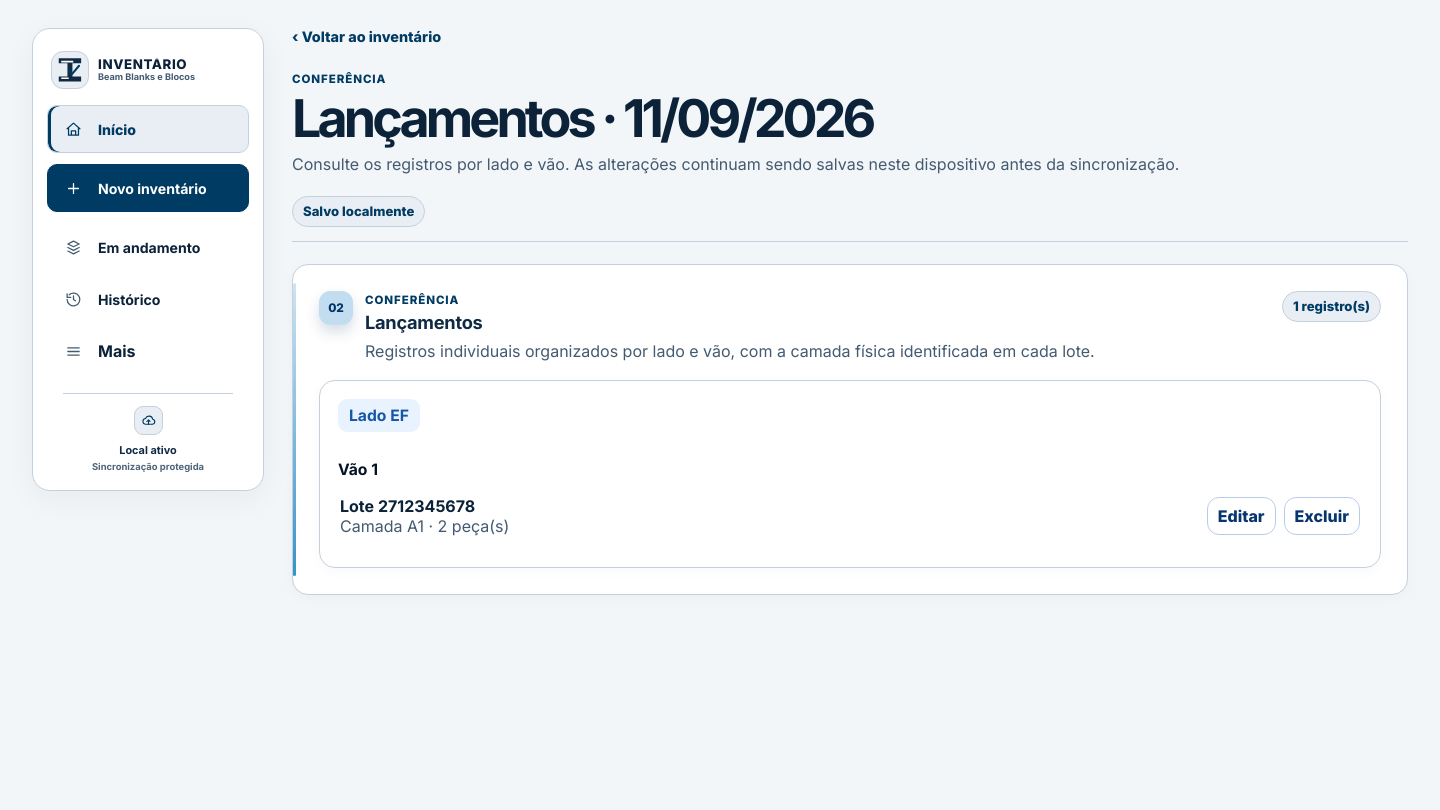
Test: edita e exige confirmação antes de tombstonar um registro
Expected: the text "Lote 2712345678" is shown, [340,496,475,516]
Click the button "Editar": [1241, 516] box [1207,497,1276,535]
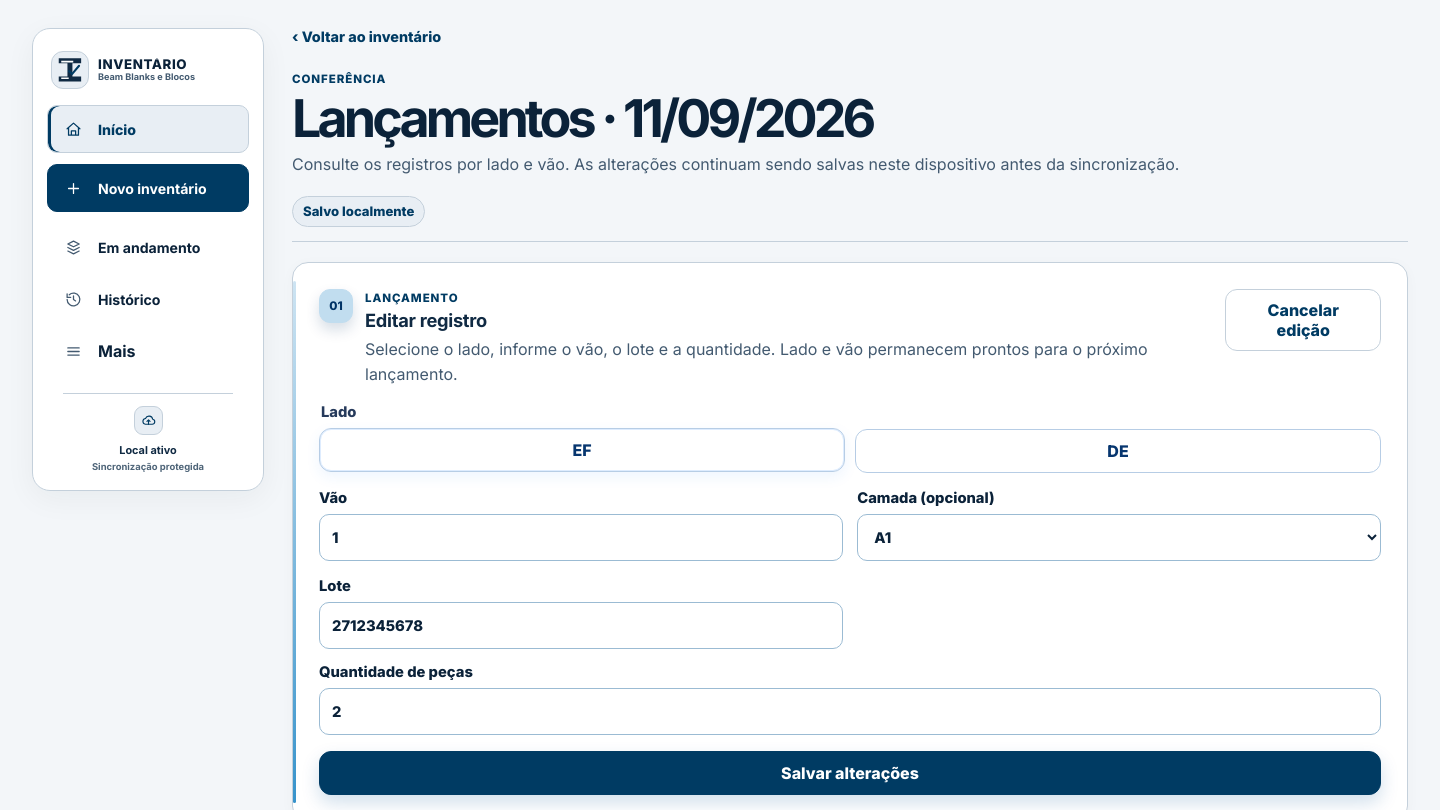
Replace the text in the field labelled "Lote" with "2812345678": [581, 626] box [319,602,843,649]
Click the button "Salvar alterações": [850, 773] box [319,751,1381,795]
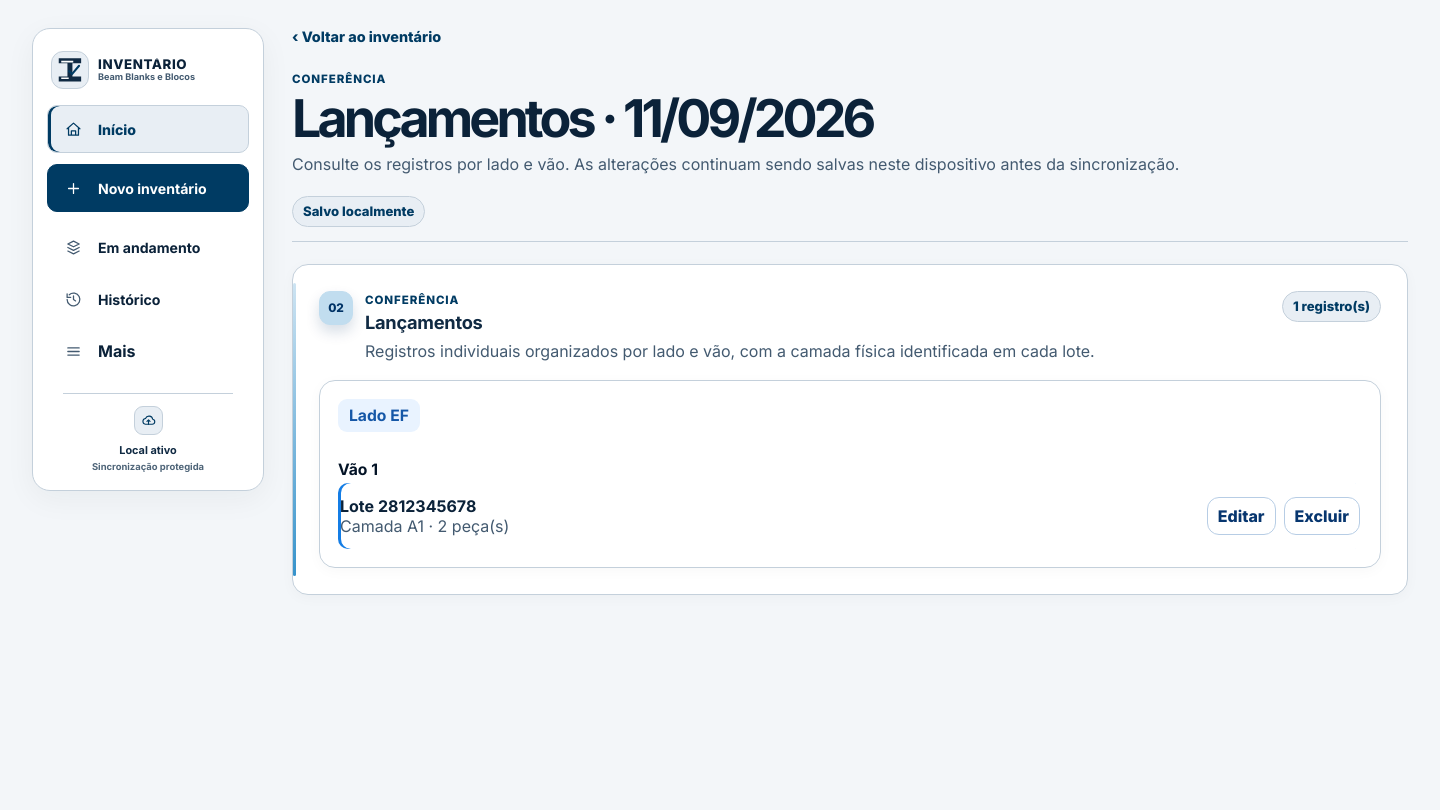
Expected: the text "Lote 2812345678" is shown, [340,496,476,516]
Click the button "Excluir": [1322, 516] box [1284,497,1360,535]
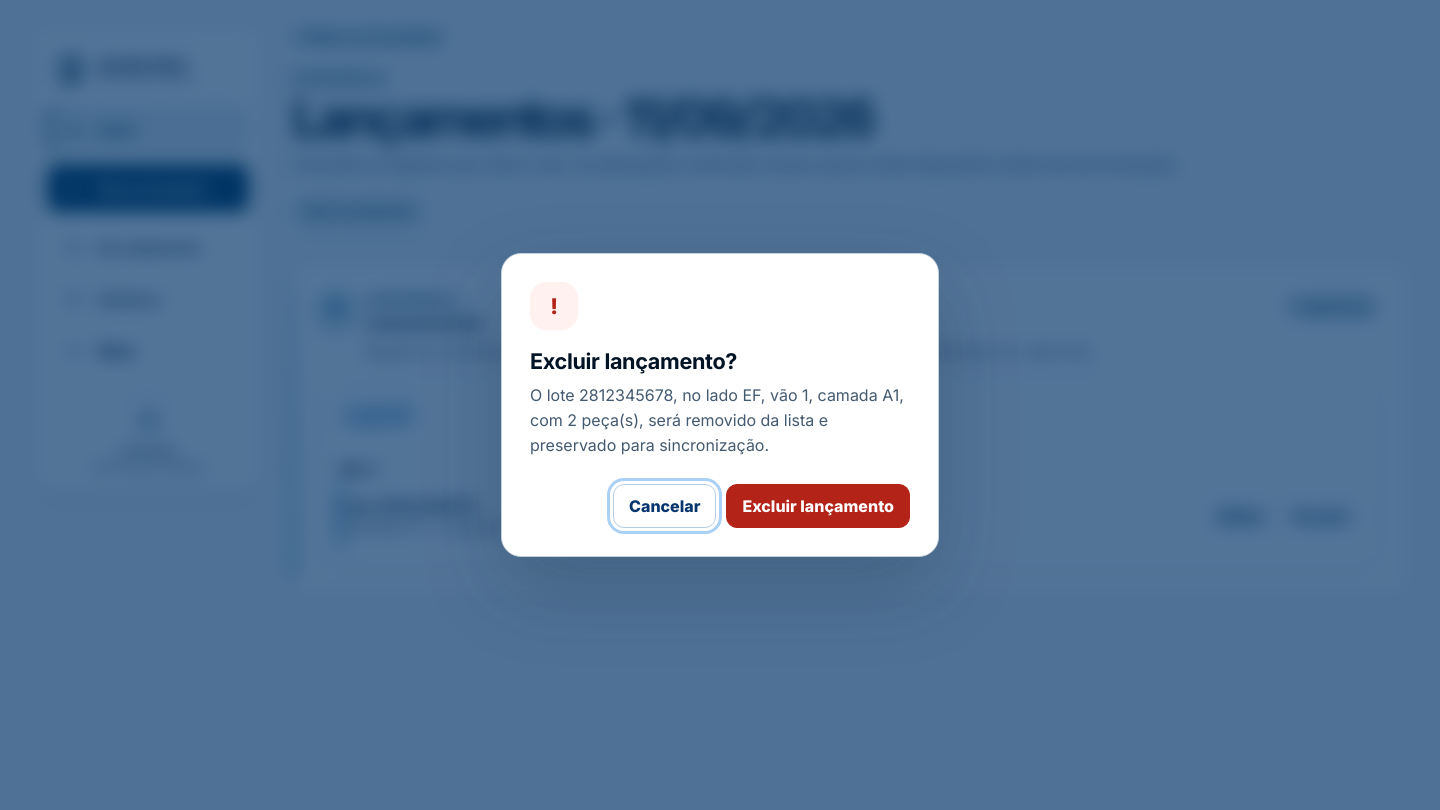
Expected: the dialog "Excluir lançamento?" is shown, [501,253,939,557]
Click the button "Cancelar": [665, 506] box [613,484,716,528]
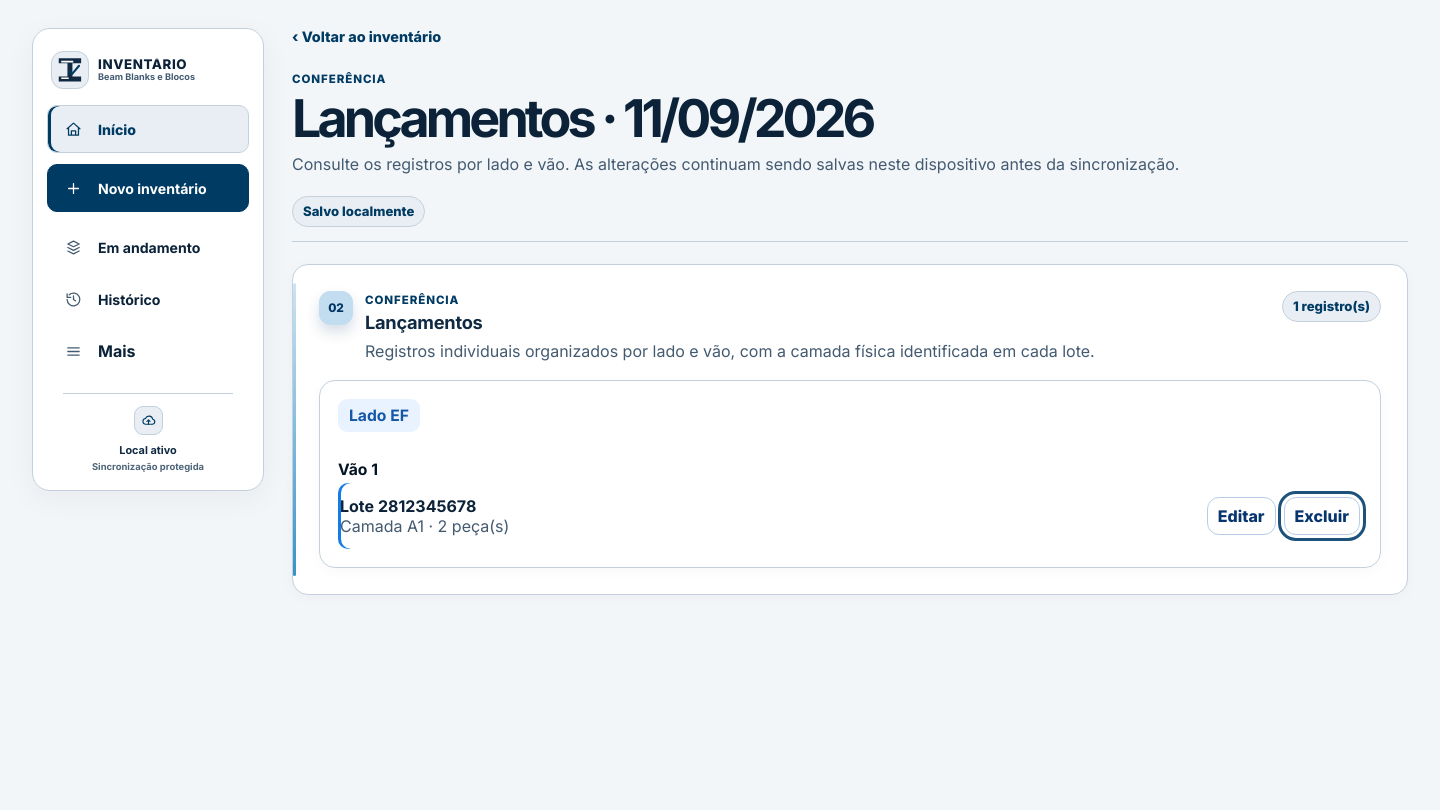
Expected: the dialog is gone
Click the button "Excluir": [1322, 516] box [1284,497,1360,535]
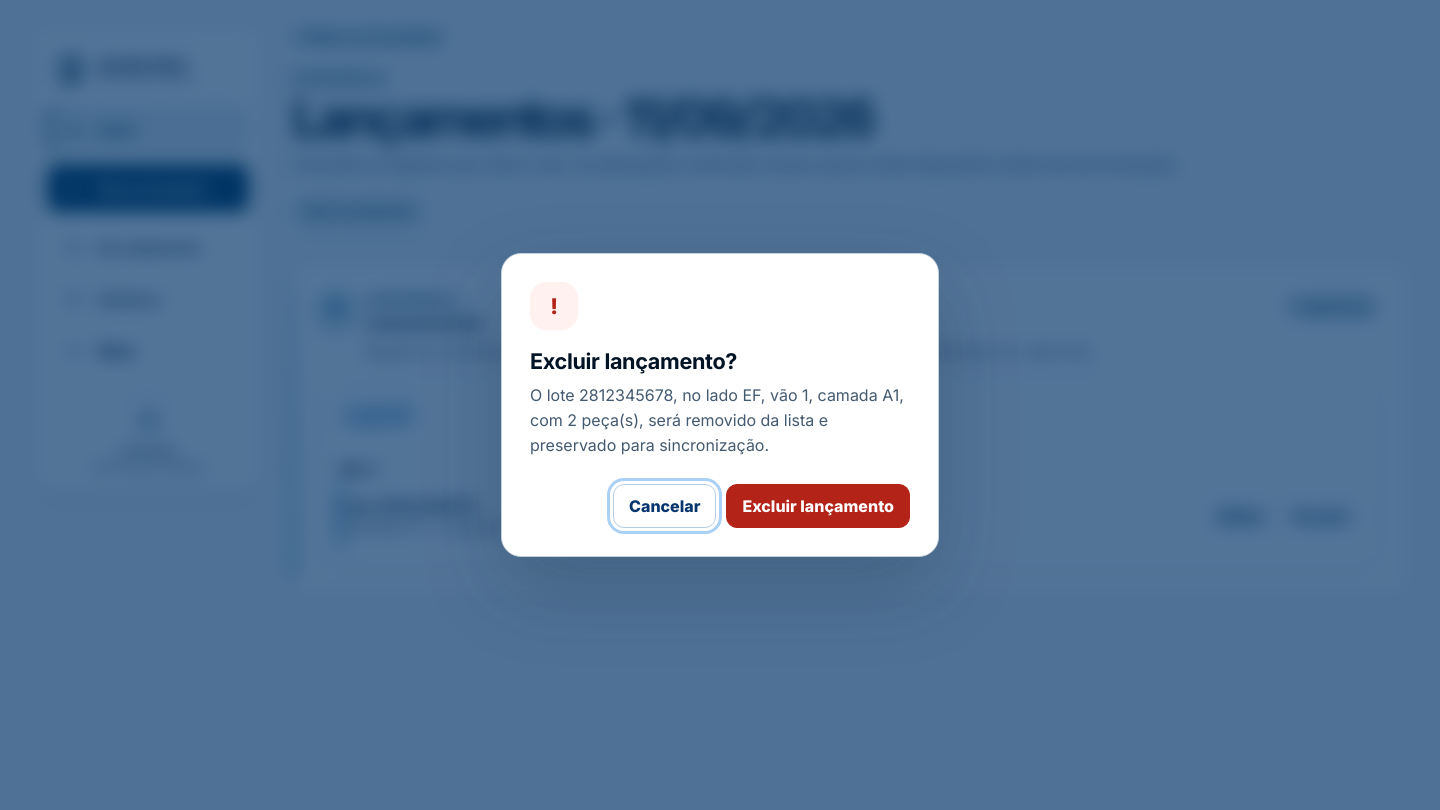
Click the button "Excluir lançamento": [818, 506] box [726,484,910,528]
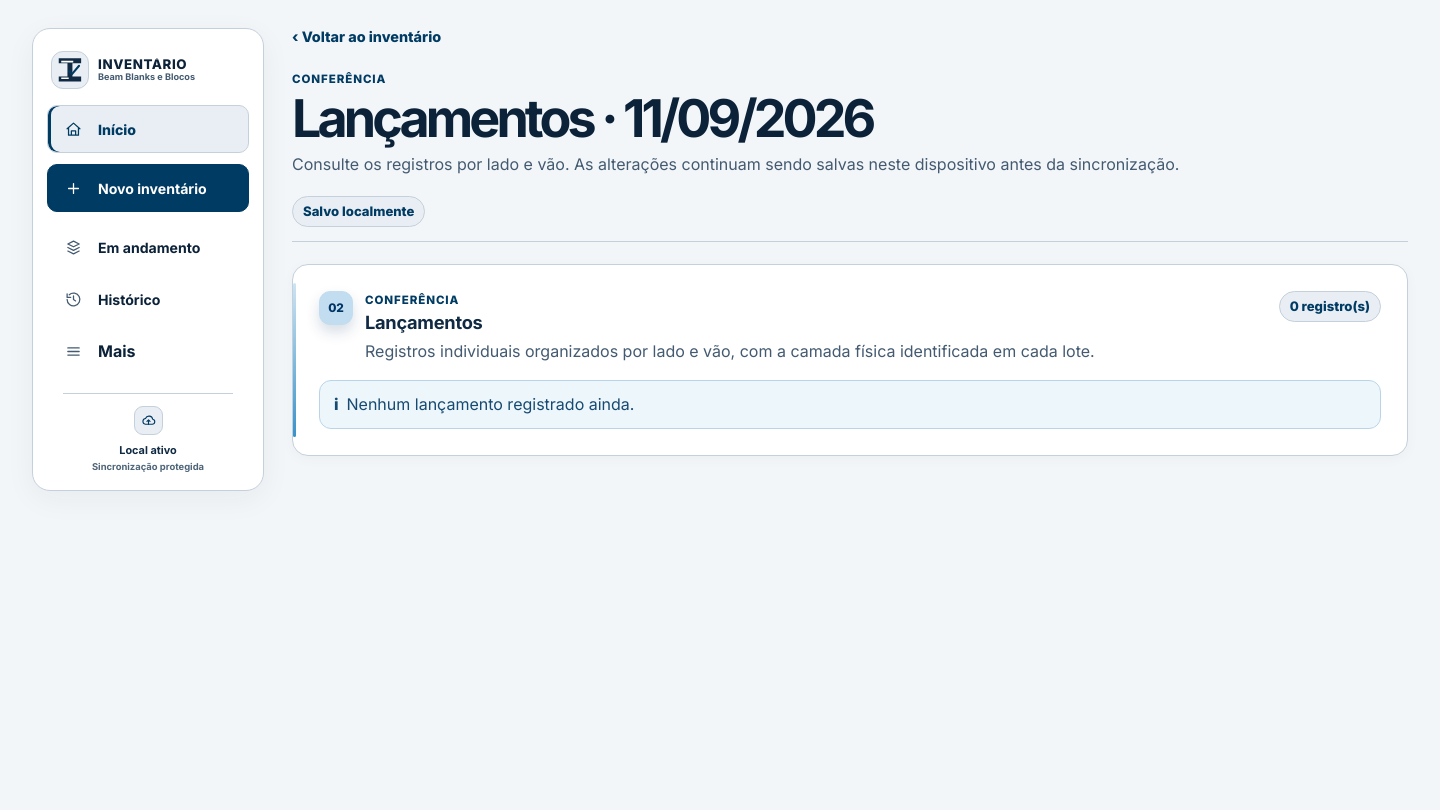
Expected: the text "Lote 2812345678" is gone
